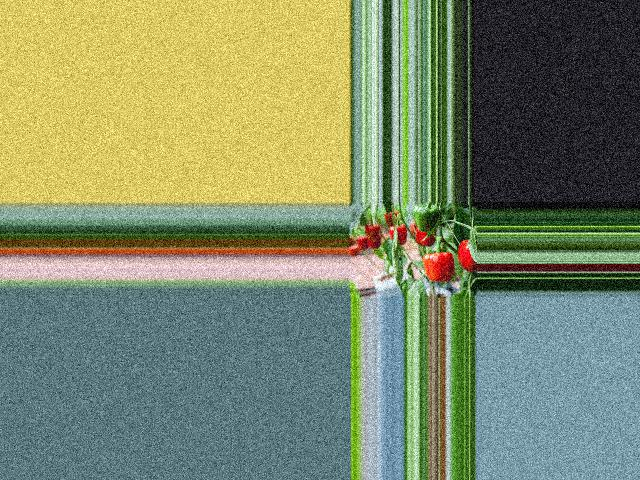bell_pepper: (387, 219, 406, 250)
